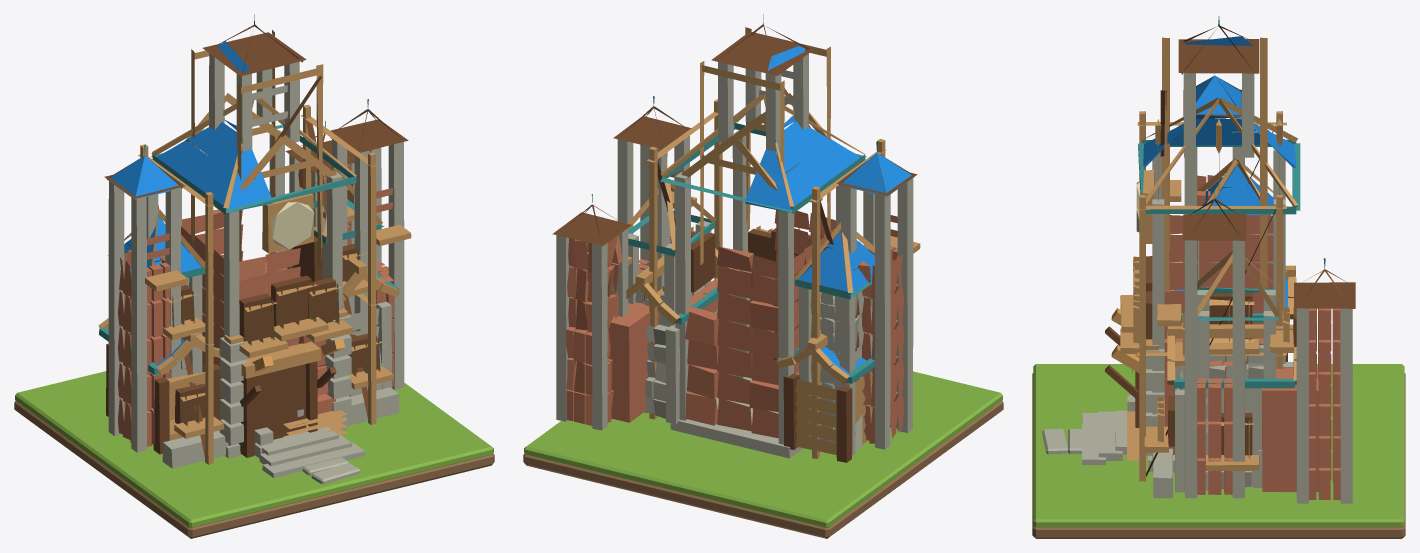
The model's file is town_hall_l13_construction_LOD2.glb.
3 views of the same model, side by side, from view 1: azimuth 30°, elevation 25°; view 2: azimuth 150°, elevation 25°; view 3: azimuth 270°, elevation 25° (orthographic). The views are drawn at different scales.
Parts seen in each view (by area): view 1: town_hall_l13_construction_foundation.001, town_hall_l13_construction_grass_tile.001, town_hall_l13_construction_earth_tile.001, town_hall_l13_construction_path_stone.005; view 2: town_hall_l13_construction_foundation.001, town_hall_l13_construction_grass_tile.001, town_hall_l13_construction_earth_tile.001; view 3: town_hall_l13_construction_foundation.001, town_hall_l13_construction_grass_tile.001, town_hall_l13_construction_earth_tile.001, town_hall_l13_construction_path_stone.005.
Part boxes in pixels (<box>): town_hall_l13_construction_foundation.001: <box>98,14,411,478</box>; town_hall_l13_construction_grass_tile.001: <box>15,371,493,527</box>; town_hall_l13_construction_earth_tile.001: <box>14,400,494,538</box>; town_hall_l13_construction_path_stone.005: <box>311,463,360,484</box>; town_hall_l13_construction_foundation.001: <box>552,14,920,462</box>; town_hall_l13_construction_grass_tile.001: <box>524,371,1002,527</box>; town_hall_l13_construction_earth_tile.001: <box>523,400,1003,538</box>; town_hall_l13_construction_foundation.001: <box>1082,16,1355,503</box>; town_hall_l13_construction_grass_tile.001: <box>1033,364,1404,527</box>; town_hall_l13_construction_earth_tile.001: <box>1032,373,1405,538</box>; town_hall_l13_construction_path_stone.005: <box>1042,428,1067,454</box>.
Size of the model in its own units: 3.6 by 4.76 by 3.6.
